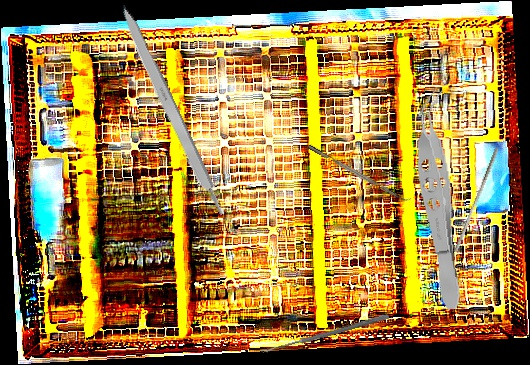Chopper: (307, 139, 413, 206)
Pusher: (453, 146, 499, 254)
Scalpel Handle: (114, 2, 227, 220)
Surgical Spoon: (260, 312, 390, 356)
Tissue Forceps: (407, 89, 472, 312)
